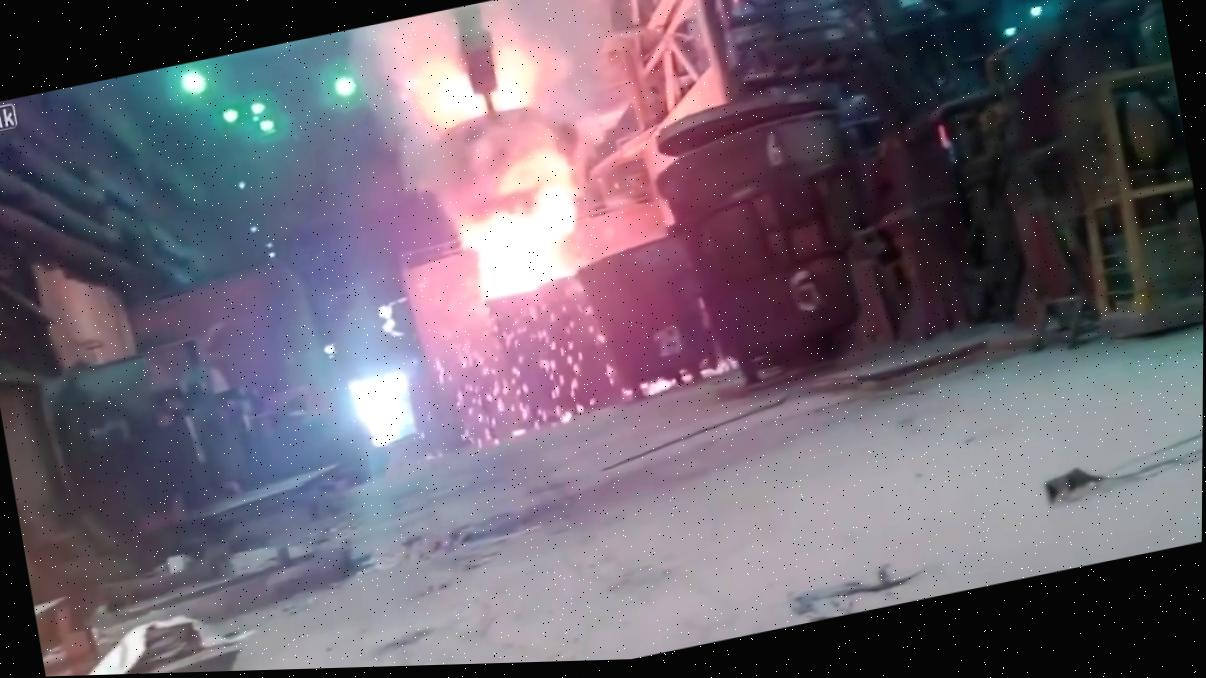fire: (306, 14, 665, 420)
